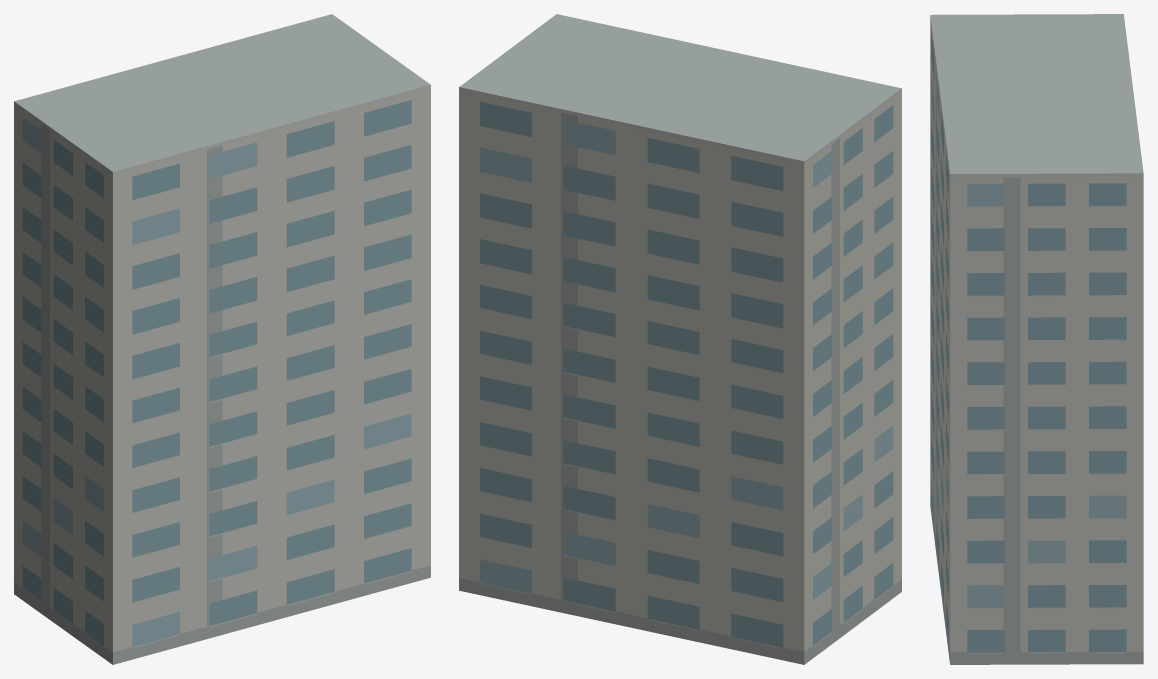
The model's file is residential-801b0367-4101-4f9d-9e91-b9c9897a53da.glb.
3 views of the same model, side by side, from view 1: azimuth 30°, elevation 25°; view 2: azimuth 150°, elevation 25°; view 3: azimuth 270°, elevation 25° (orthographic). The views are drawn at different scales.
Parts seen in each view (by area): view 1: residential-801b0367-4101-4f9d-9e91-b9c9897a53da.tmp; view 2: residential-801b0367-4101-4f9d-9e91-b9c9897a53da.tmp; view 3: residential-801b0367-4101-4f9d-9e91-b9c9897a53da.tmp.
Boxes of the visible parts, <box> form: residential-801b0367-4101-4f9d-9e91-b9c9897a53da.tmp: <box>14,14,430,664</box>; residential-801b0367-4101-4f9d-9e91-b9c9897a53da.tmp: <box>459,14,901,664</box>; residential-801b0367-4101-4f9d-9e91-b9c9897a53da.tmp: <box>930,14,1143,664</box>.
Size of the model in its own units: 24.5 by 35 by 13.79.
